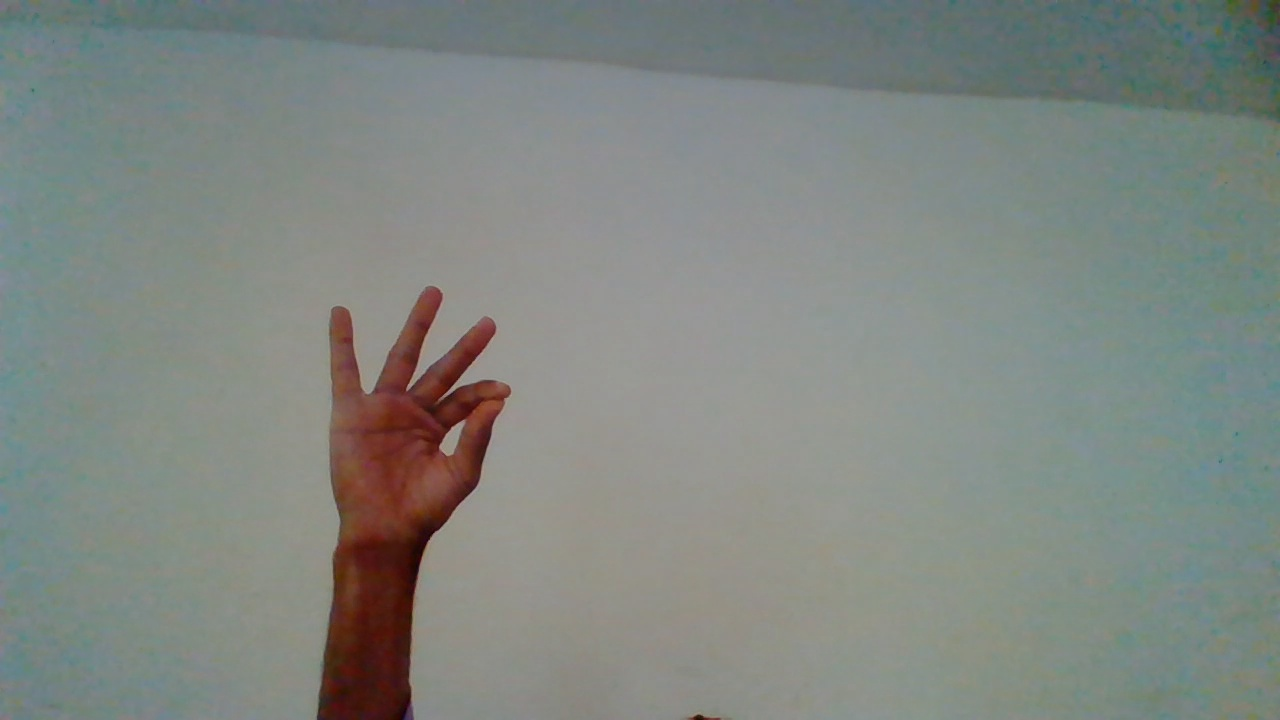le: (319, 285, 509, 684)
